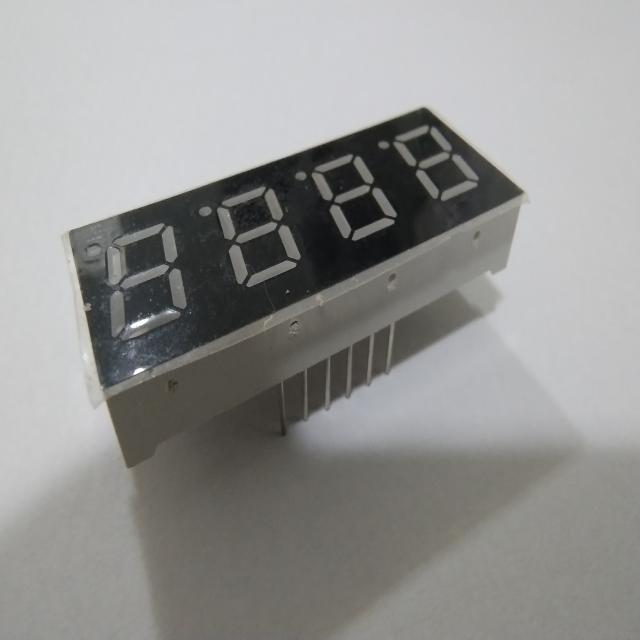7_segments_4_digits: (58, 98, 539, 487)
